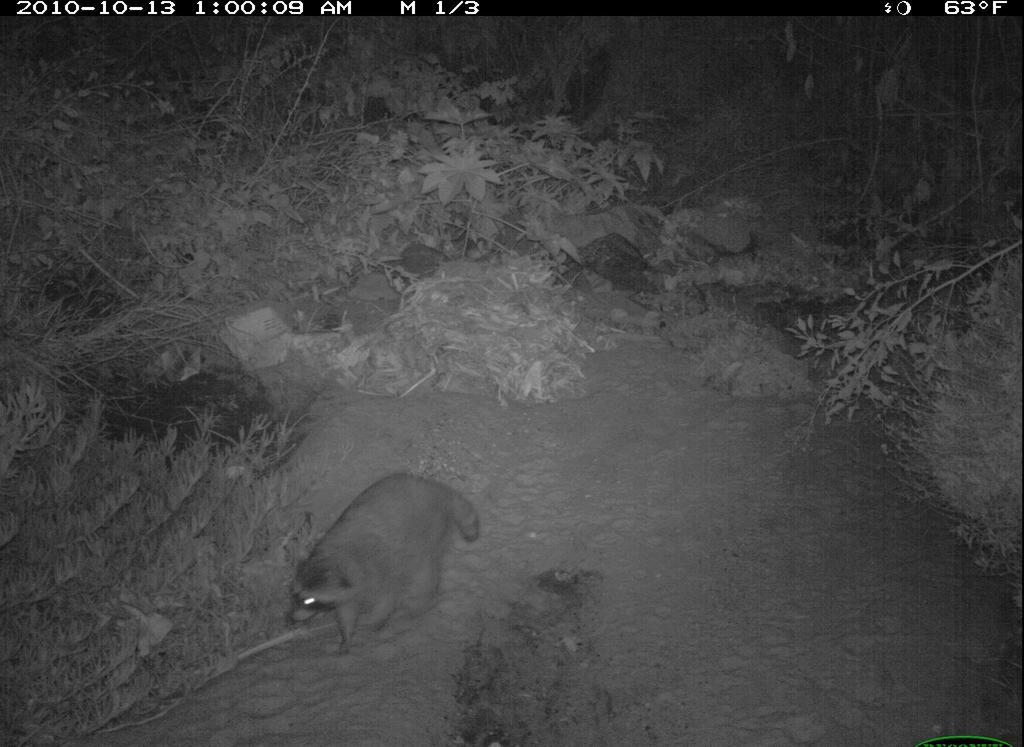raccoon: (281, 472, 484, 662)
